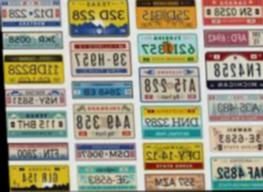License_Plate: (0, 0, 263, 190)
